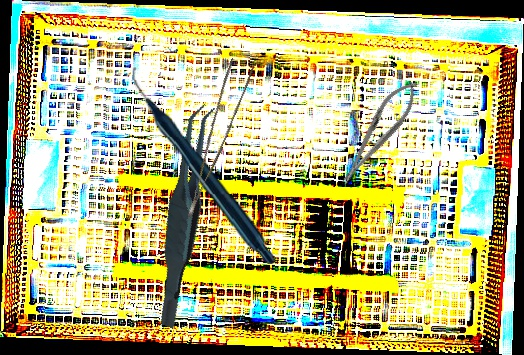Handpiece: (132, 64, 275, 267)
Needle Holder: (330, 72, 427, 193)
Tissue Forceps: (113, 100, 257, 330), (161, 57, 262, 219)
